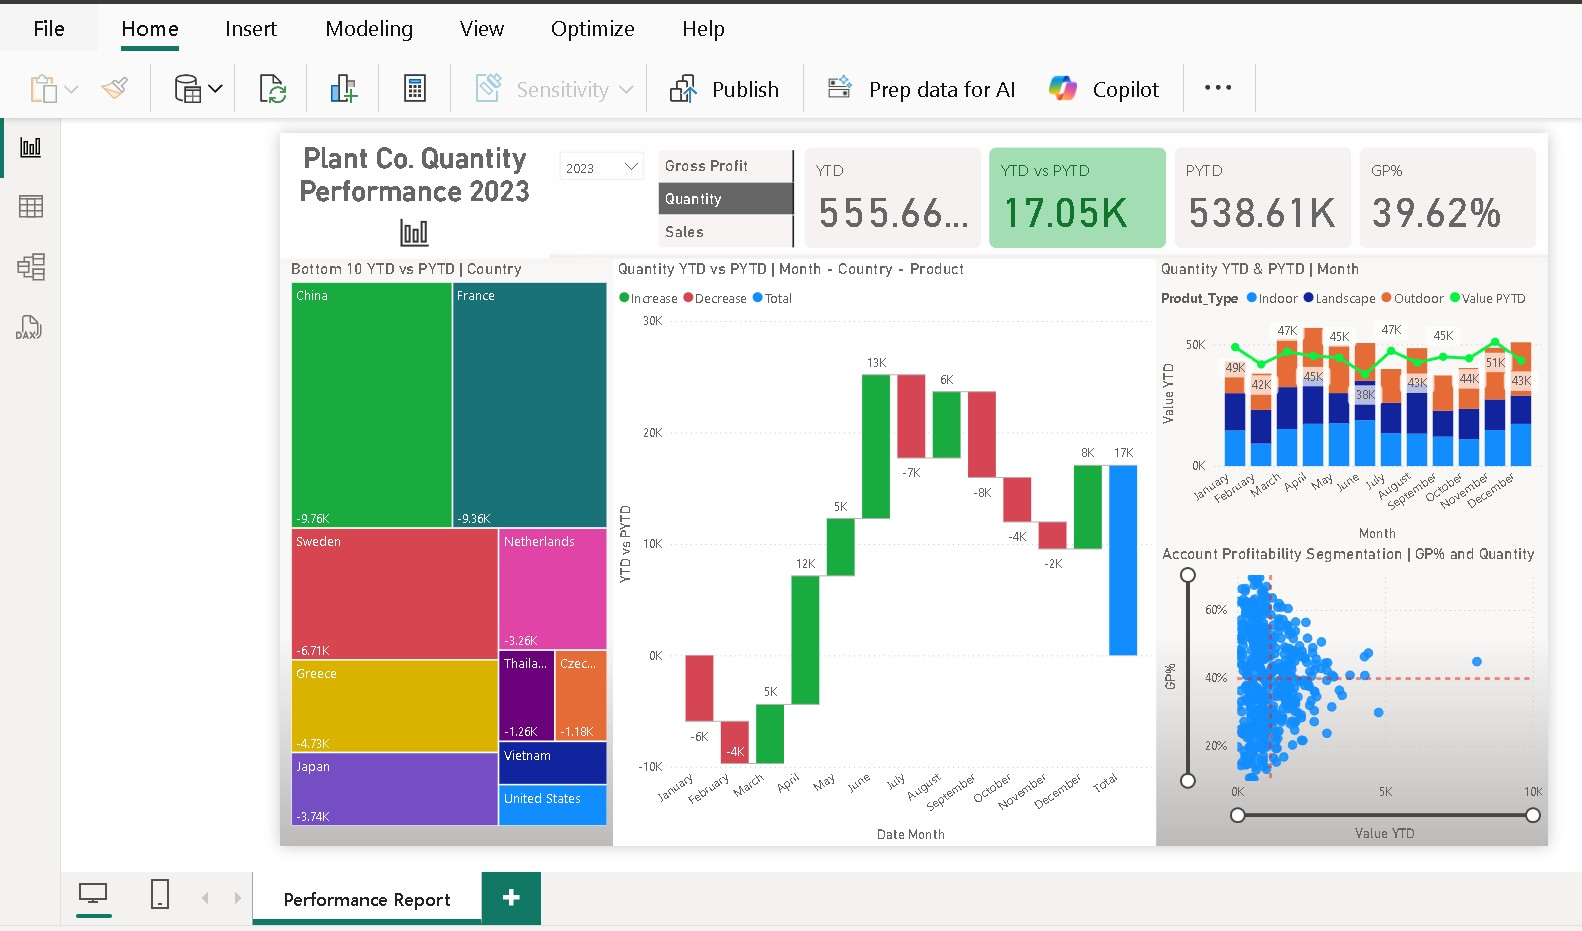

The page's visual inventory and layout, read from the dashboard file:
{"tool":"powerbi","page":{"name":"Performance Report","canvas":[1280,720],"ordinal":0},"visuals":[{"type":"cardVisual","fields":{"Data":["_Measures.S_YTD","_Measures.YTD vs PYTD","_Measures.S_PYTD","_Measures.GP%"]},"box":[524.9,9.5,753.9,112.9],"z":0},{"type":"advancedSlicerVisual","fields":{"Values":["Slc_Values.Values"]},"box":[377,12.7,147.9,109.8],"z":1000},{"type":"slicer","fields":{"Values":["Dim_Date.Date.Variation.Date Hierarchy.Year"]},"box":[272,9.5,105,112.9],"z":2000},{"type":"treemap","title":"Bottom 10 YTD vs PYTD | Country","fields":{"Group":["Dim_Account.country"],"Values":["_Measures.YTD vs PYTD"]},"box":[6.4,127.2,329.3,577.4],"z":3000},{"type":"waterfallChart","fields":{"Y":["_Measures.YTD vs PYTD"],"Category":["Dim_Date.Date.Variation.Date Hierarchy.Month","Dim_Account.country","Dim_Product.Produt_Type","Dim_Product.Product_Name"]},"box":[335.6,127.2,548.8,593.3],"z":4000},{"type":"lineStackedColumnComboChart","fields":{"Y":["_Measures.S_YTD"],"Y2":["_Measures.S_PYTD"],"Category":["Dim_Date.Date.Variation.Date Hierarchy.Quarter","Dim_Date.Date.Variation.Date Hierarchy.Month"],"Series":["Dim_Product.Produt_Type"]},"box":[884.4,127.2,394.5,289.5],"z":5000},{"type":"scatterChart","fields":{"Y":["_Measures.GP%"],"X":["_Measures.S_YTD"],"Category":["Dim_Account.Account"]},"box":[886.4,415.2,393.9,304.5],"z":6000},{"type":"clusteredColumnChart","box":[0,9.5,272,117.7],"z":6001}]}

Visuals, with their boxes on the page's 1280x720 design canvas (x1, y1, x2, y2). These are canvas units, not pixel positions in the 1582x931 screenshot, which may show the page scaled, cropped or inside an application window:
cardVisual - _Measures.S_YTD x _Measures.YTD vs PYTD: (525,10,1279,122)
advancedSlicerVisual - Slc_Values.Values: (377,13,525,122)
slicer - Dim_Date.Date.Variation.Date Hierarchy.Year: (272,10,377,122)
"Bottom 10 YTD vs PYTD | Country" treemap: (6,127,336,705)
waterfallChart - _Measures.YTD vs PYTD x Dim_Date.Date.Variation.Date Hierarchy.Month: (336,127,884,720)
lineStackedColumnComboChart - _Measures.S_YTD x _Measures.S_PYTD: (884,127,1279,417)
scatterChart - _Measures.GP% x _Measures.S_YTD: (886,415,1280,720)
clusteredColumnChart: (0,10,272,127)
